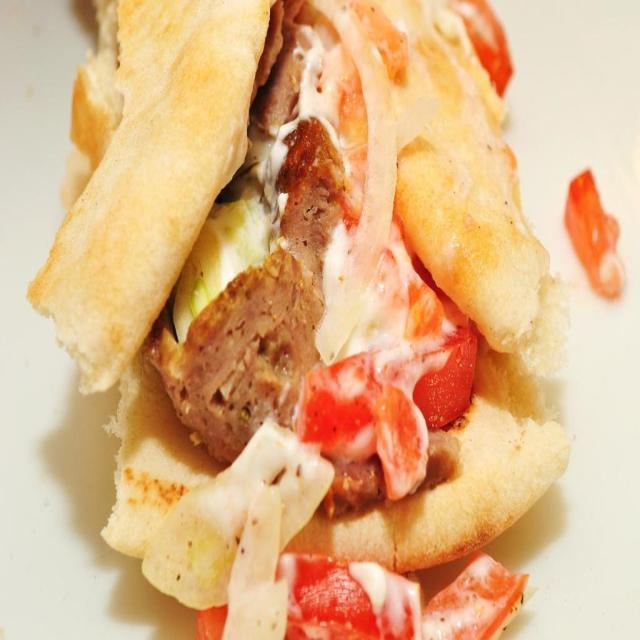Sandwich: (28, 0, 576, 614)
